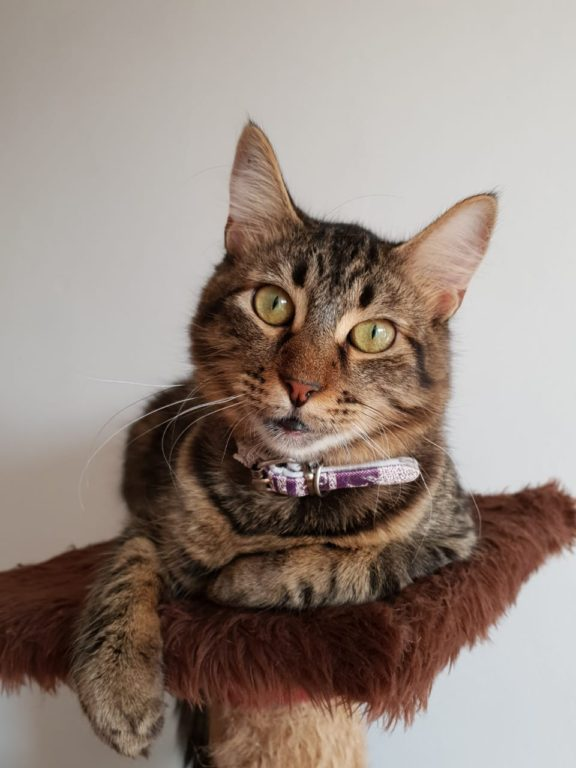cat: (105, 105, 504, 722)
